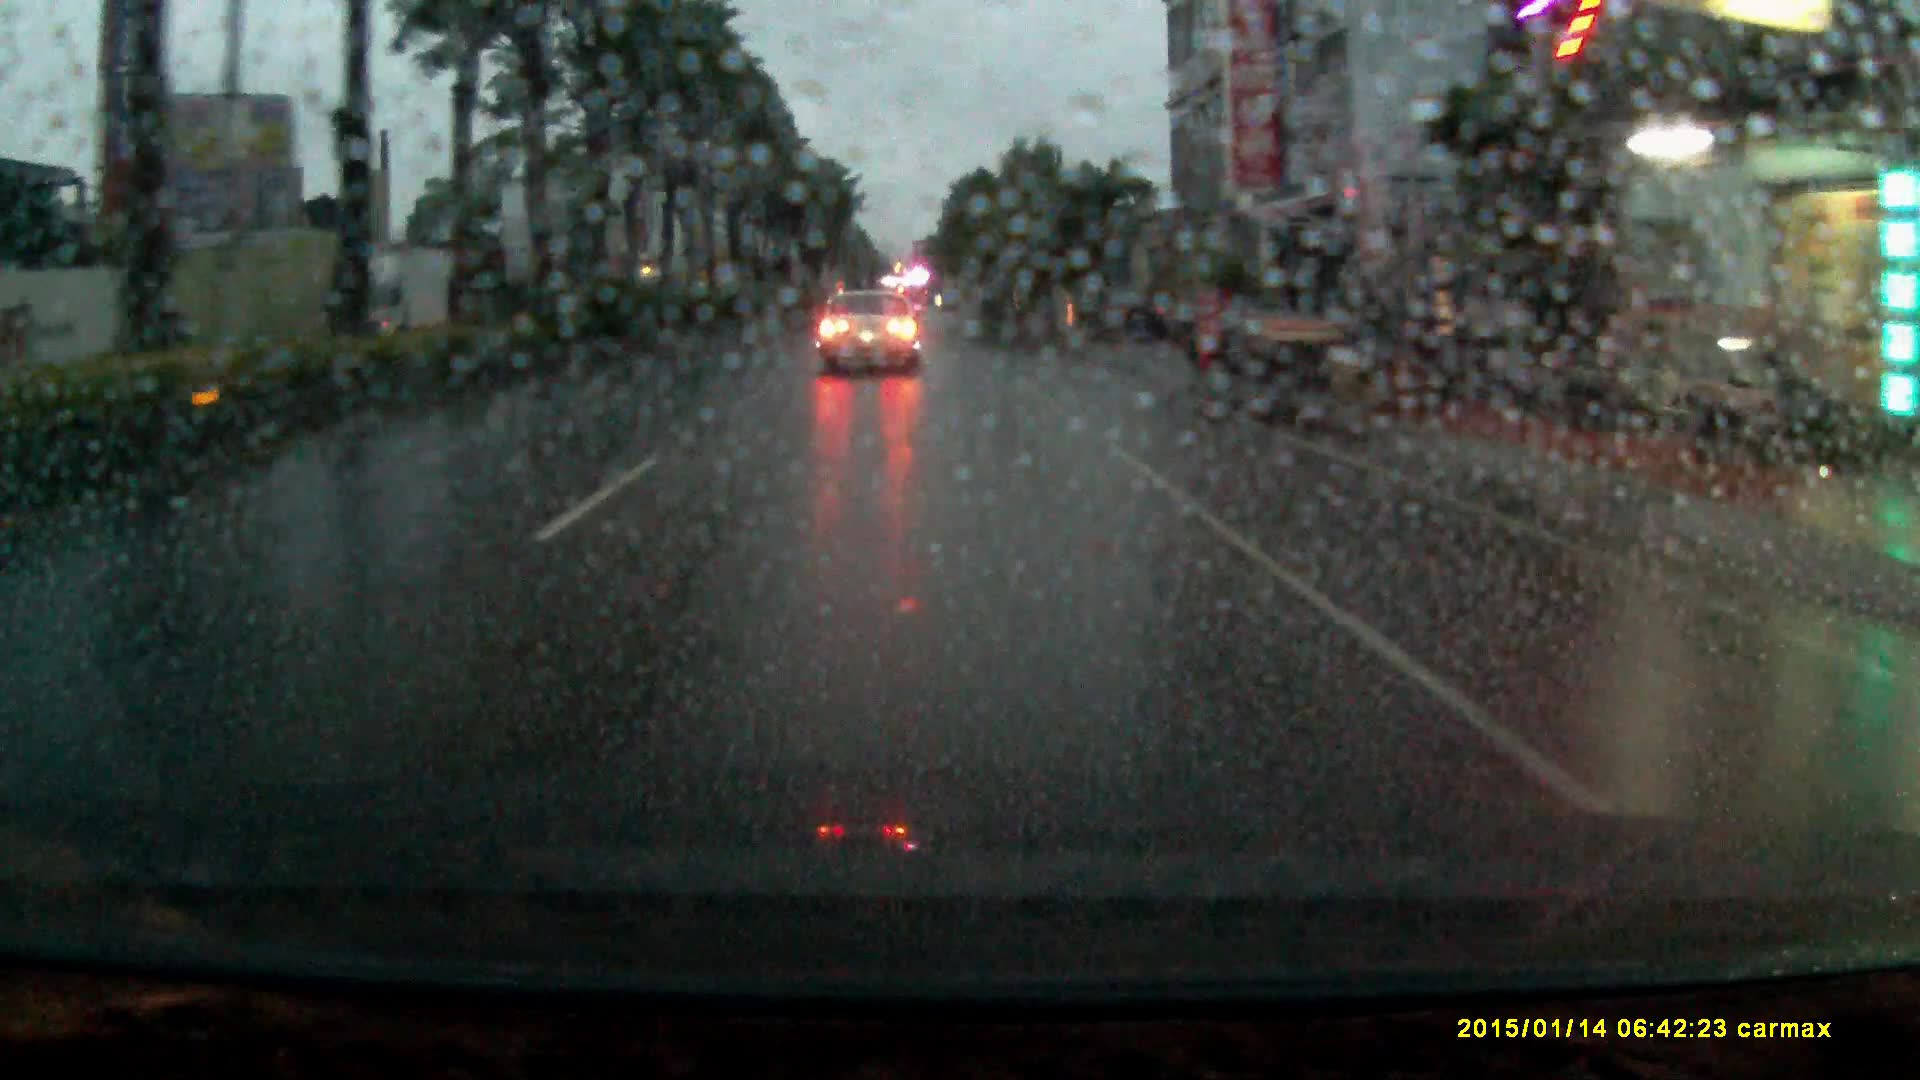vehicle: (318, 244, 476, 330), (819, 286, 920, 378), (1087, 287, 1168, 342)
